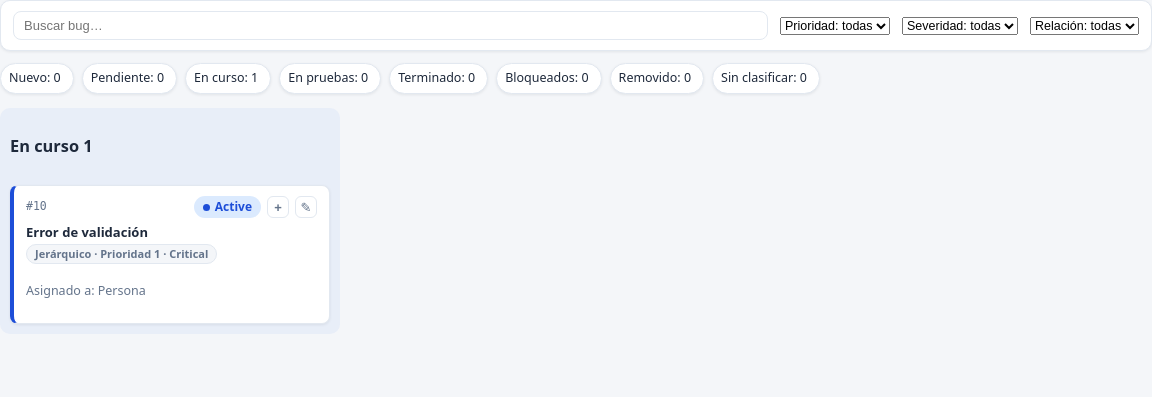
it: TableroBugs › expande la descripción sanitizable
Click the button named "ampliar detalle del bug" at coordinates (278, 207), box [267, 196, 289, 218]
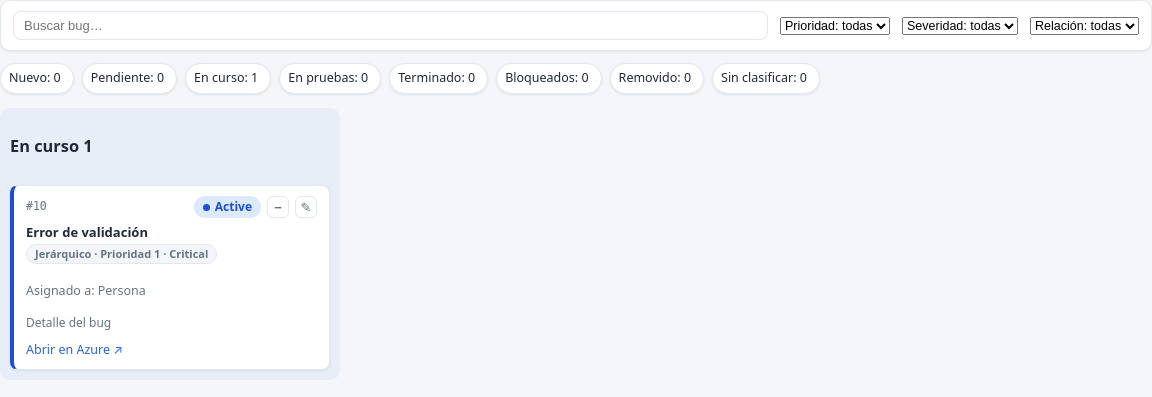
Check: the text "Detalle del bug" is shown, box [26, 314, 111, 331]
